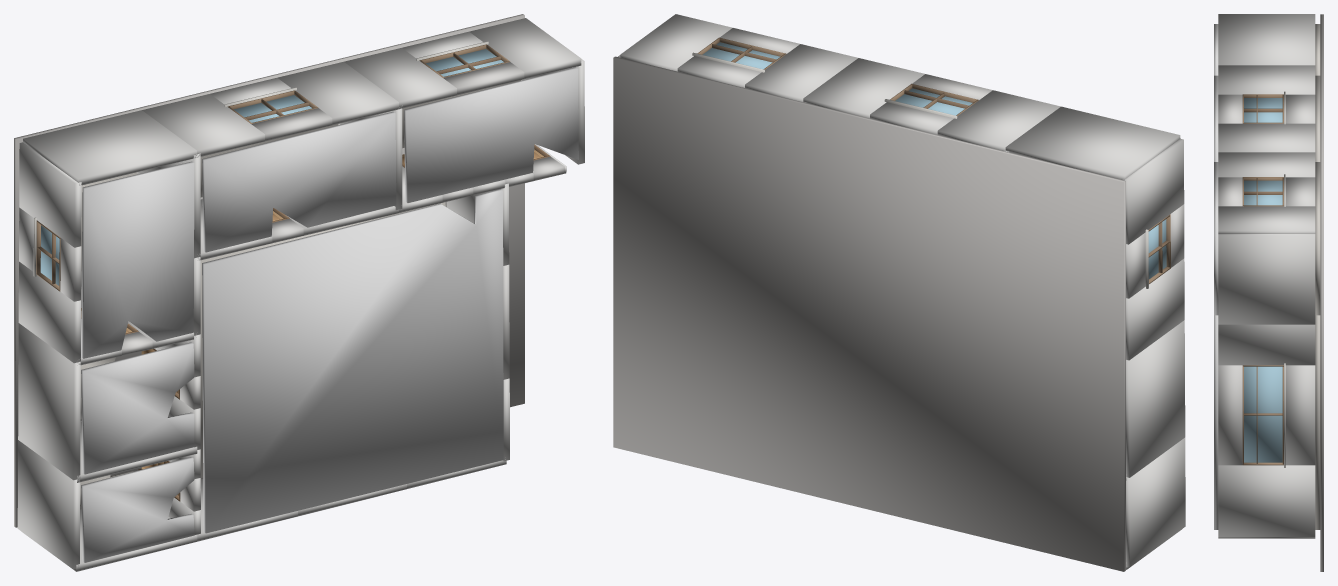
File: blueprint5_scene.glb
3 views of the same model, side by side, from view 1: azimuth 30°, elevation 25°; view 2: azimuth 150°, elevation 25°; view 3: azimuth 270°, elevation 25° (orthographic). The views are drawn at different scales.
Parts seen in each view (by area): view 1: Ceilings, Walls, Lintels, Plinth, Floors, WindowGlasses, WindowFrames, WindowMullions, WindowSills; view 2: Plinth, Walls, Lintels, WindowGlasses, WindowFrames, WindowMullions, WindowSills; view 3: Walls, WindowGlasses, Lintels, Floors, Ceilings, Plinth, WindowFrames, WindowMullions, WindowSills.
Boxes of the visible parts, box(x1,y1,x2,y2) form: Ceilings: box(81, 67, 578, 562); Walls: box(17, 18, 584, 571); Lintels: box(60, 62, 564, 516); Plinth: box(14, 14, 524, 527); Floors: box(80, 80, 520, 507); WindowGlasses: box(40, 49, 503, 285); WindowFrames: box(36, 44, 510, 291); WindowMullions: box(37, 53, 500, 284); WindowSills: box(33, 41, 488, 276); Plinth: box(613, 56, 1125, 571); Walls: box(618, 14, 1185, 569); Lintels: box(720, 28, 1184, 267); WindowGlasses: box(702, 42, 1166, 279); WindowFrames: box(697, 37, 1170, 283); WindowMullions: box(712, 44, 1169, 272); WindowSills: box(692, 52, 1148, 288); Walls: box(1218, 14, 1315, 538); WindowGlasses: box(1244, 98, 1282, 462); Lintels: box(1218, 94, 1242, 465); Floors: box(1315, 24, 1320, 529); Ceilings: box(1214, 24, 1218, 529); Plinth: box(1320, 14, 1323, 571); WindowFrames: box(1242, 94, 1283, 465); WindowMullions: box(1244, 95, 1282, 463); WindowSills: box(1284, 91, 1285, 467).
Bounding box in the file's own units: 14.99 × 11.02 × 3.17.
